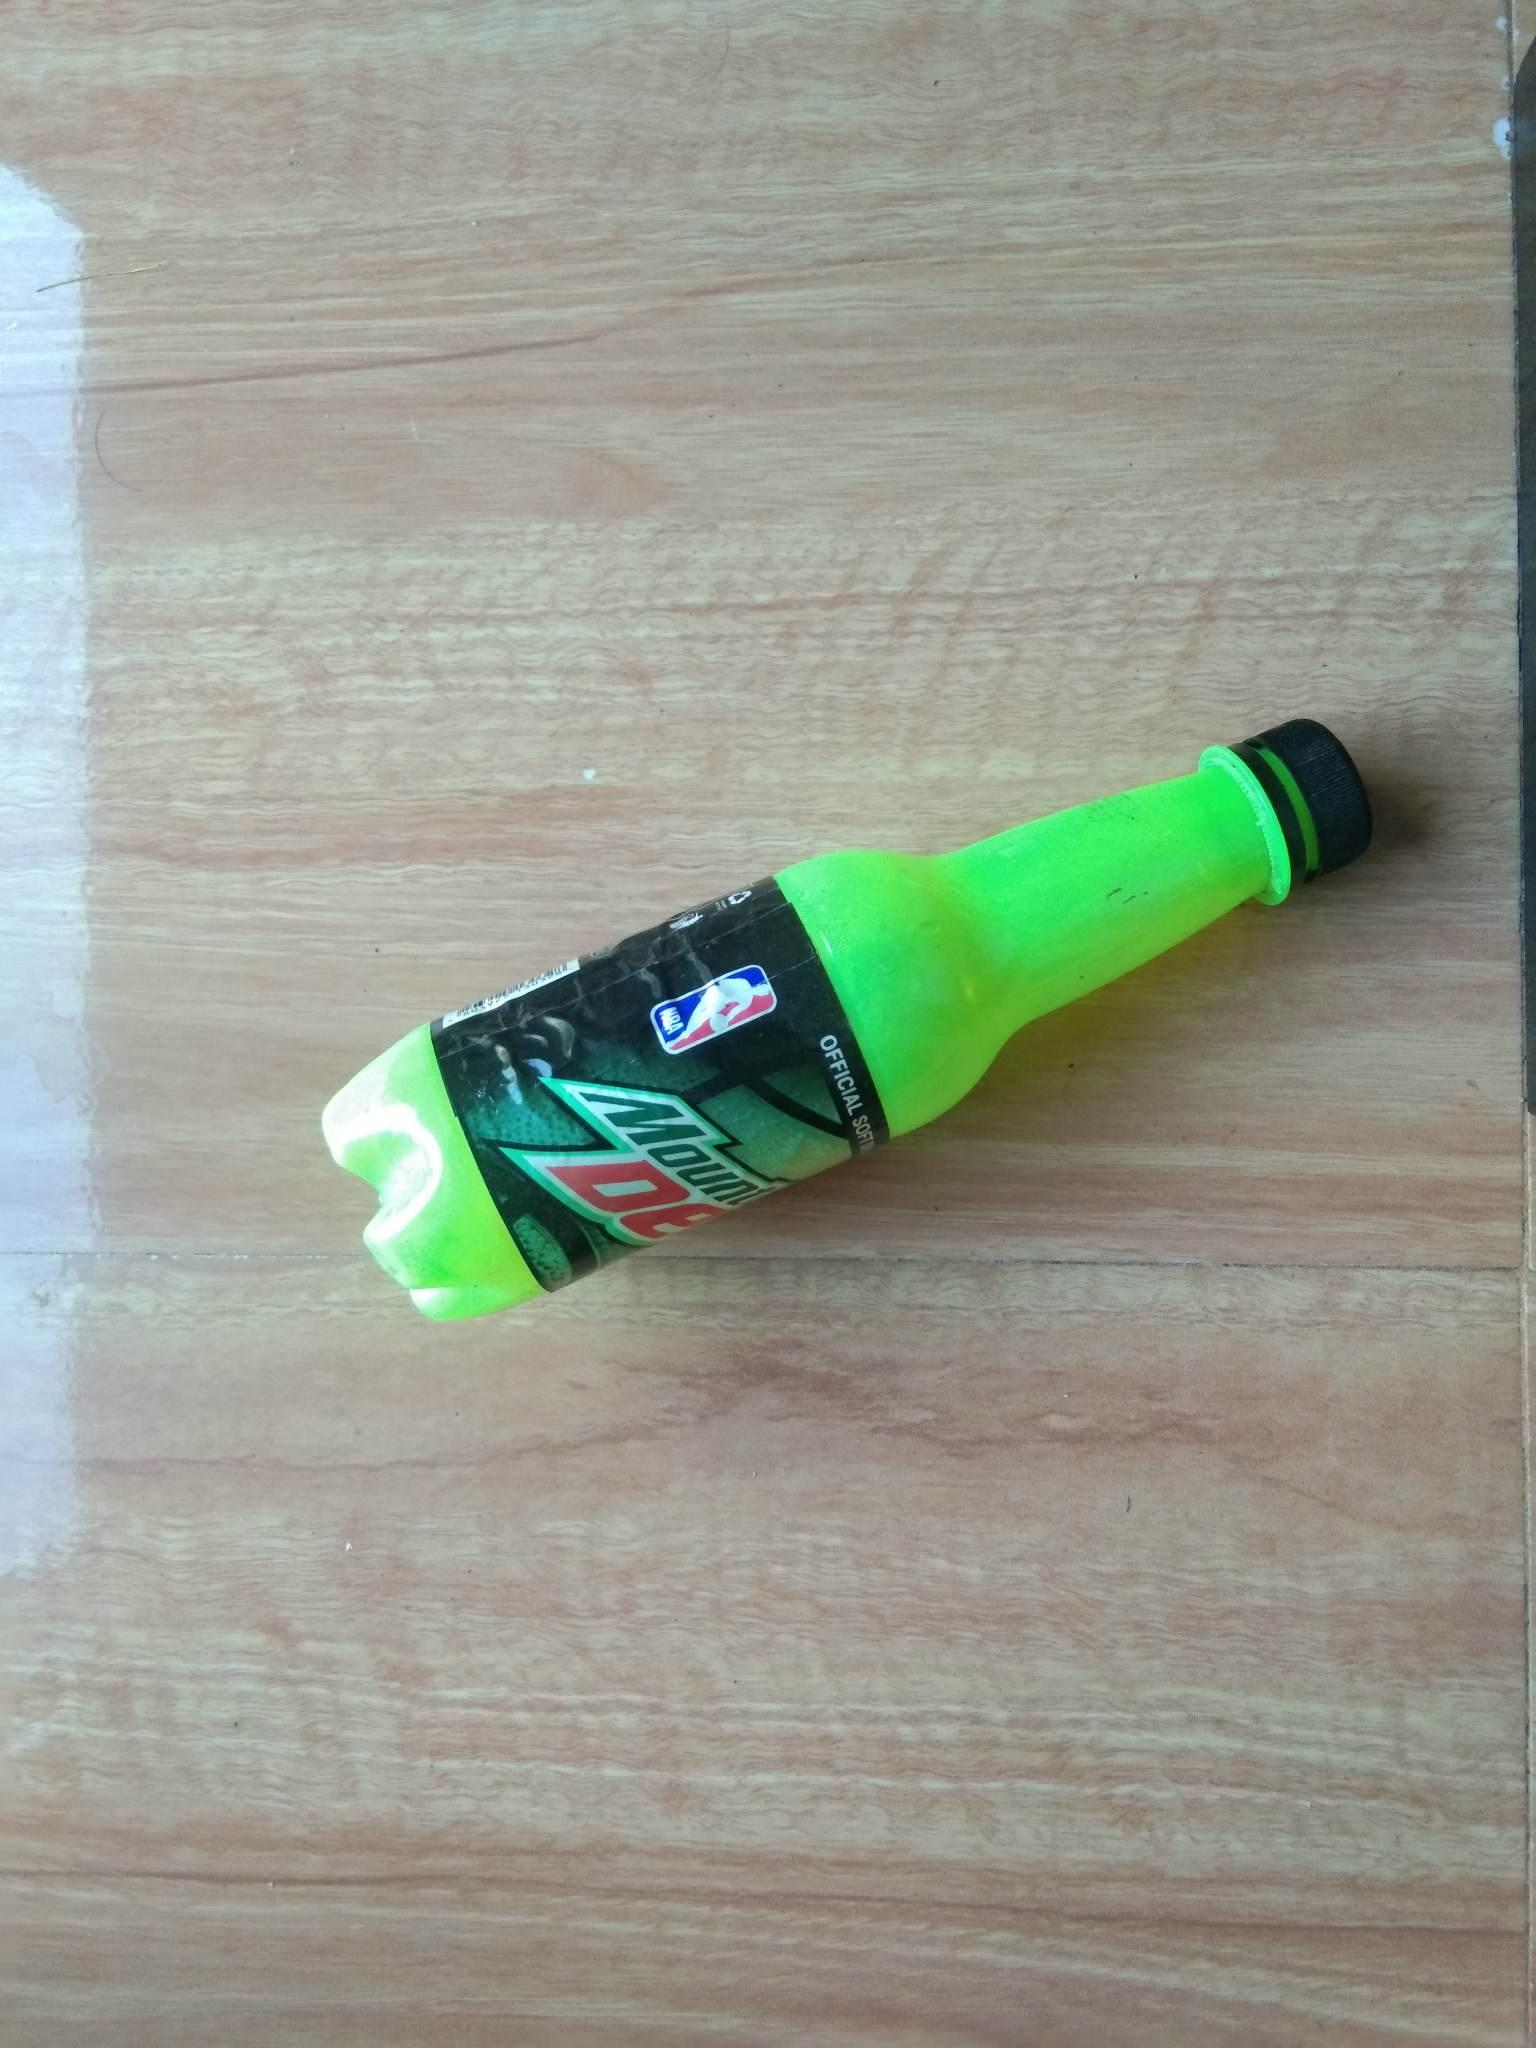plastic: (255, 661, 1439, 1353)
